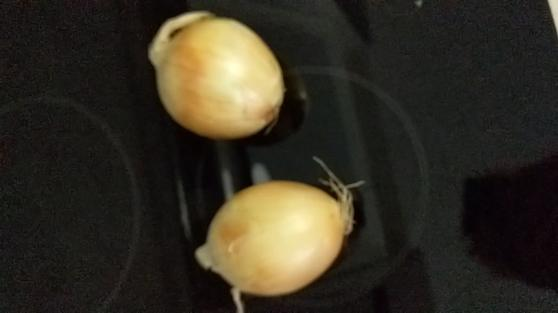onion: (136, 9, 299, 144), (193, 170, 365, 297)
